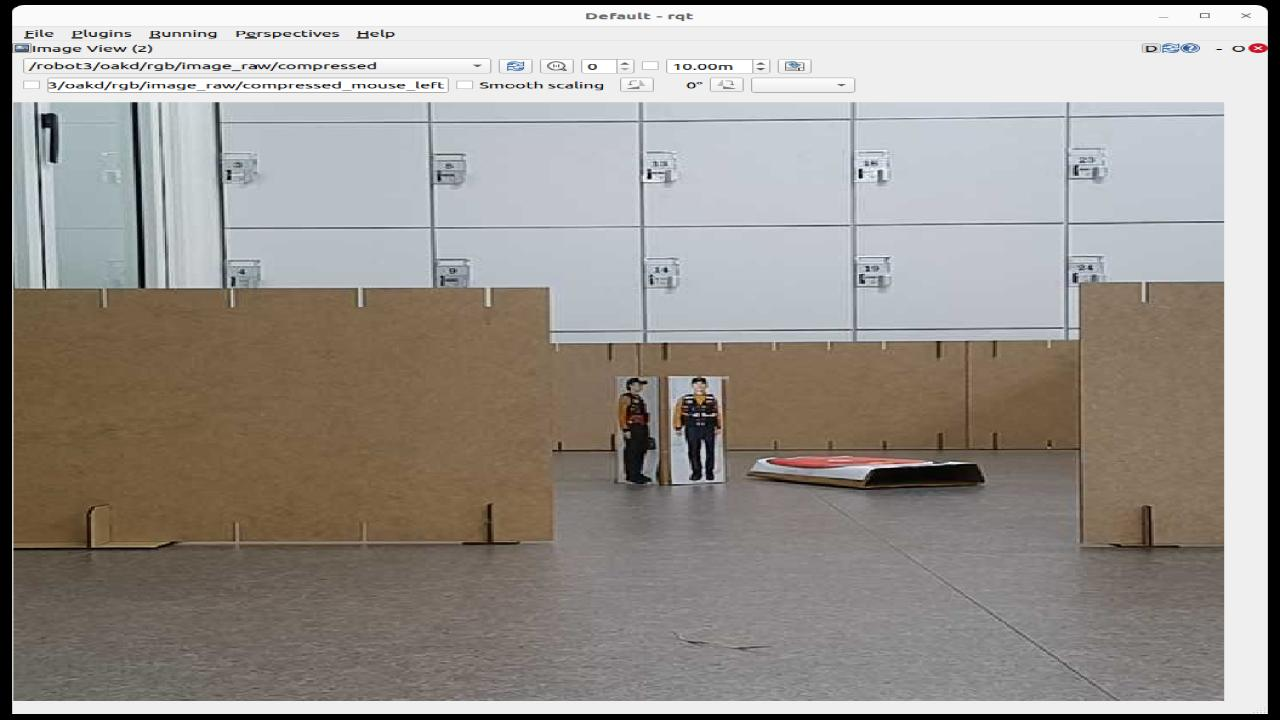AED: (769, 456, 917, 468)
Responder: (673, 377, 721, 481), (619, 377, 650, 483)
